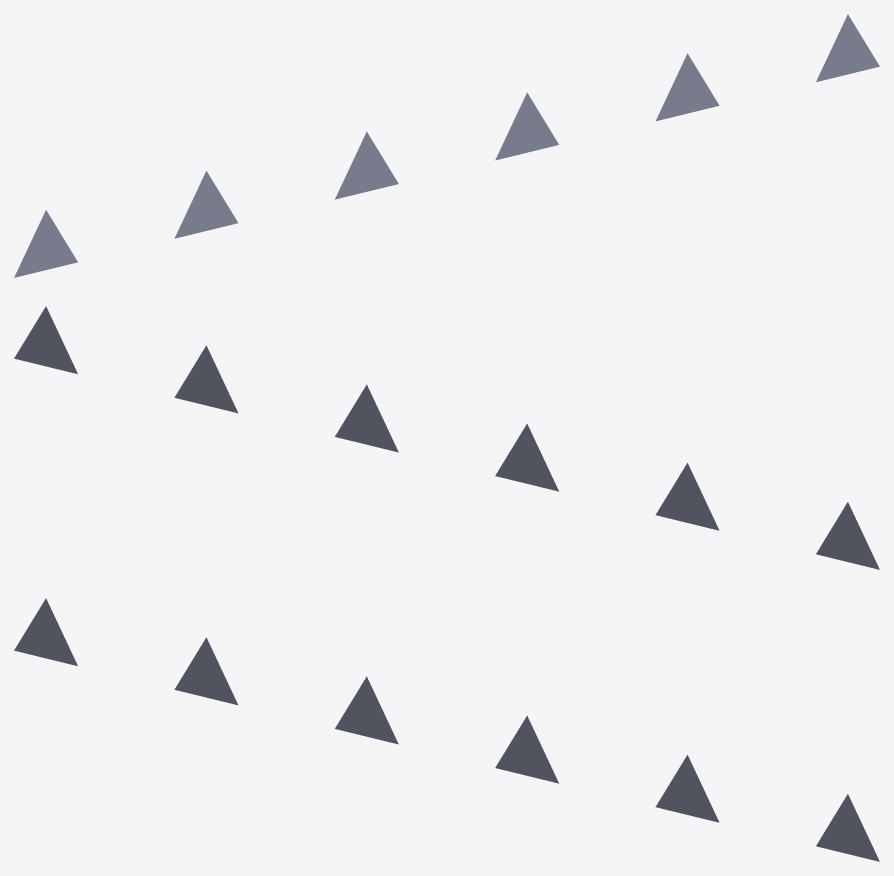
File: char_iron_vanguard_captain_lod2.gltf
3 views of the same model, one above another, from view 1: azimuth 30°, elevation 25°; view 2: azimuth 150°, elevation 25°; view 3: azimuth 330°, elevation 25° (orthographic).
Visible parts, largest first — view 1: char_iron_vanguard_captain_lod2; view 2: char_iron_vanguard_captain_lod2; view 3: char_iron_vanguard_captain_lod2.
Boxes of the visible parts, x1=… form: char_iron_vanguard_captain_lod2: x1=14, y1=14, x2=879, y2=277; char_iron_vanguard_captain_lod2: x1=14, y1=306, x2=879, y2=569; char_iron_vanguard_captain_lod2: x1=14, y1=598, x2=879, y2=861.
Bounding box in the file's own units: 0.81 × 0.054 × 0.
